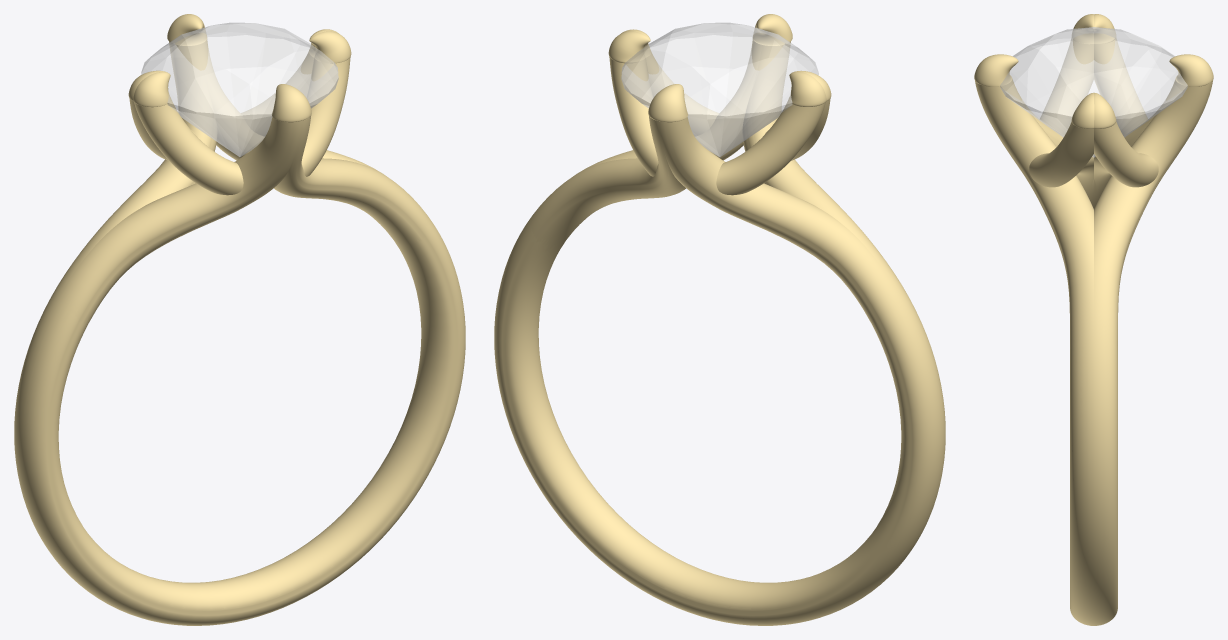
3 views of the same model, side by side, from view 1: azimuth 30°, elevation 25°; view 2: azimuth 150°, elevation 25°; view 3: azimuth 270°, elevation 25° (orthographic). The views are drawn at different scales.
Parts seen in each view (by area): view 1: NNObj_6, NNObj_7, NNObj_5, NNObj_0, NNObj_4, NNObj_11, NNObj_8, NNObj_3, NNObj_10, NNObj_2, NNObj_9, NNObj_1; view 2: NNObj_5, NNObj_4, NNObj_6, NNObj_0, NNObj_7, NNObj_12, NNObj_3, NNObj_8, NNObj_10, NNObj_1, NNObj_9, NNObj_2; view 3: NNObj_4, NNObj_7, NNObj_0, NNObj_11, NNObj_12, NNObj_3, NNObj_8, NNObj_9, NNObj_10, NNObj_1, NNObj_2, NNObj_5 (+1 smaller).
Boxes of the visible parts, <box> form: NNObj_6: <box>14,41,252,625</box>; NNObj_7: <box>197,39,465,618</box>; NNObj_5: <box>14,117,301,625</box>; NNObj_0: <box>141,22,338,156</box>; NNObj_4: <box>234,116,465,618</box>; NNObj_11: <box>134,100,243,195</box>; NNObj_8: <box>301,57,350,176</box>; NNObj_3: <box>241,52,313,136</box>; NNObj_10: <box>128,70,171,107</box>; NNObj_2: <box>271,84,311,122</box>; NNObj_9: <box>308,29,351,63</box>; NNObj_1: <box>167,14,207,45</box>; NNObj_5: <box>707,41,945,625</box>; NNObj_4: <box>494,39,762,618</box>; NNObj_6: <box>658,117,945,625</box>; NNObj_0: <box>621,22,818,156</box>; NNObj_7: <box>494,116,725,618</box>; NNObj_12: <box>716,100,825,195</box>; NNObj_3: <box>609,57,658,176</box>; NNObj_8: <box>646,52,718,136</box>; NNObj_10: <box>788,70,831,106</box>; NNObj_1: <box>648,84,688,122</box>; NNObj_9: <box>608,29,651,63</box>; NNObj_2: <box>752,14,792,45</box>; NNObj_4: <box>975,79,1117,625</box>; NNObj_7: <box>1070,79,1212,625</box>; NNObj_0: <box>1000,27,1187,157</box>; NNObj_11: <box>1040,38,1093,135</box>; NNObj_12: <box>1094,38,1147,135</box>; NNObj_3: <box>1094,121,1158,187</box>; NNObj_8: <box>1029,122,1093,187</box>; NNObj_9: <box>1071,92,1116,128</box>; NNObj_10: <box>1072,14,1115,43</box>; NNObj_1: <box>1169,54,1213,86</box>; NNObj_2: <box>974,54,1018,86</box>; NNObj_5: <box>1013,81,1096,208</box>.
Bounding box in the file's own units: 0.0207 × 0.0255 × 0.01.
